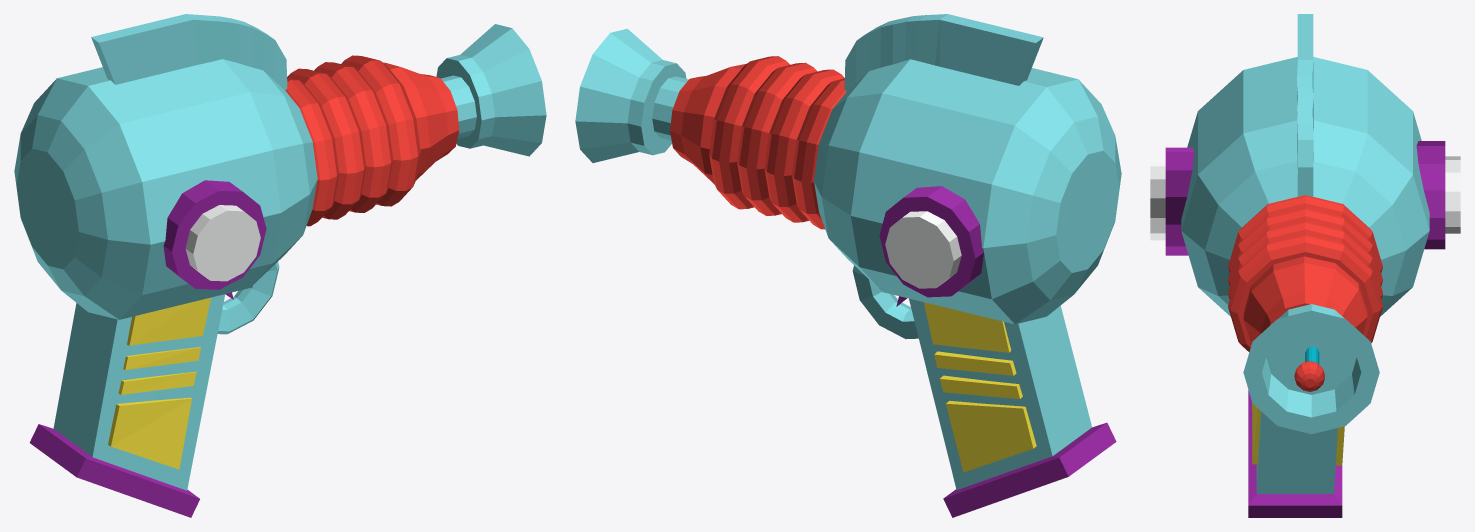
Rendered from 11Mwd6H3QpH.glb.
The picture shows the model from 3 angles, left to right: view 1: azimuth 30°, elevation 25°; view 2: azimuth 150°, elevation 25°; view 3: azimuth 270°, elevation 25°; orthographic projection.
Visible parts, largest first — view 1: Node; view 2: Node; view 3: Node.
Part boxes in pixels (bbox=[...]): Node: bbox=[14, 14, 546, 517]; Node: bbox=[575, 14, 1121, 517]; Node: bbox=[1150, 14, 1460, 517].
Size of the model in its own units: 0.3619 by 0.3348 by 0.2.
Materials: 1 (1 with a texture image).
